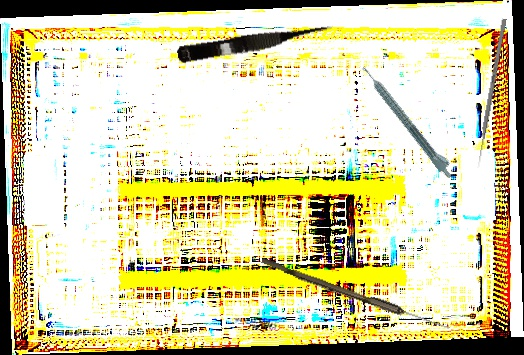Handpiece: (359, 60, 459, 181)
Micro Scissor: (176, 19, 336, 67)
Pusher: (475, 18, 507, 169)
Surgical Spoon: (259, 257, 452, 333)
